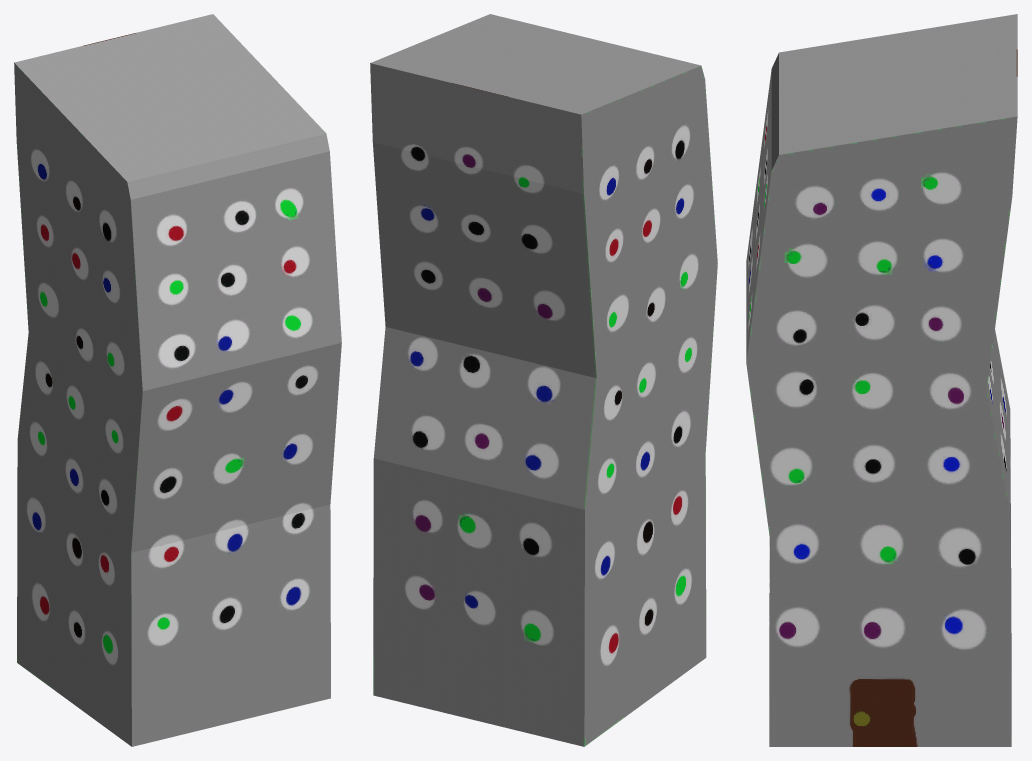
Rendered from library.gltf.
3 renders of one model, left to right at view 1: azimuth 30°, elevation 25°; view 2: azimuth 150°, elevation 25°; view 3: azimuth 270°, elevation 25°, orthographic. The views are drawn at different scales.
Parts seen in each view (by area): view 1: Blding 1; view 2: Blding 1; view 3: Blding 1.
Part boxes in pixels (bbox=[...]): Blding 1: bbox=[14, 14, 341, 746]; Blding 1: bbox=[370, 14, 717, 746]; Blding 1: bbox=[746, 14, 1017, 746].
Size of the model in its own units: 2 by 5.74 by 2.24.
Materials: 1 (1 with a texture image).
